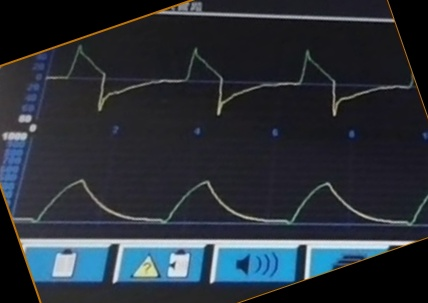Normal Flow: (49, 43, 411, 120)
Normal Volume: (16, 175, 428, 230)
